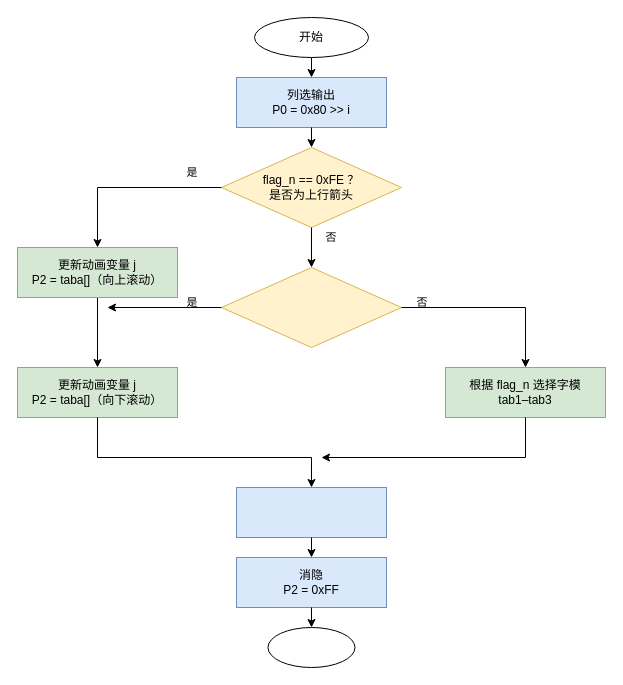
Image size: 623x685. Some labels were removed from this diagram. The centre of each missing label's shape, as x and y in pixels:
flag_n == 0xFD ？ 是否为下行箭头: the point at 311,307
延时保持 delay(5): the point at 311,512
结束: the point at 311,647
